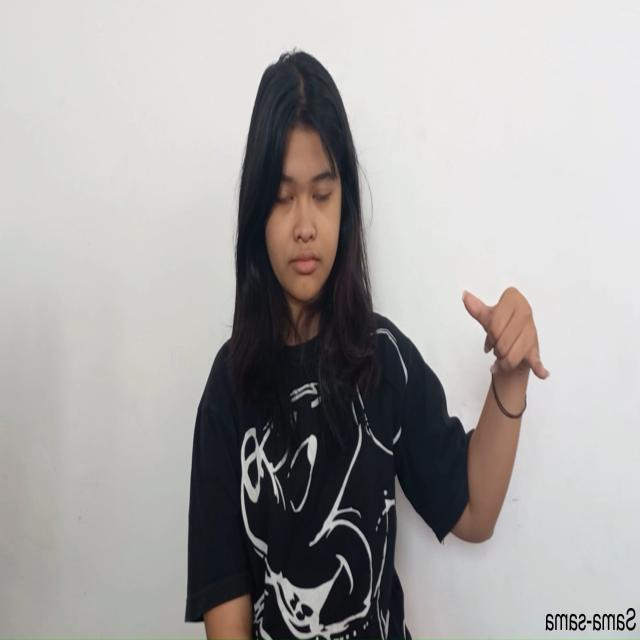Sama-sama -BISINDO-: (460, 281, 552, 400)
